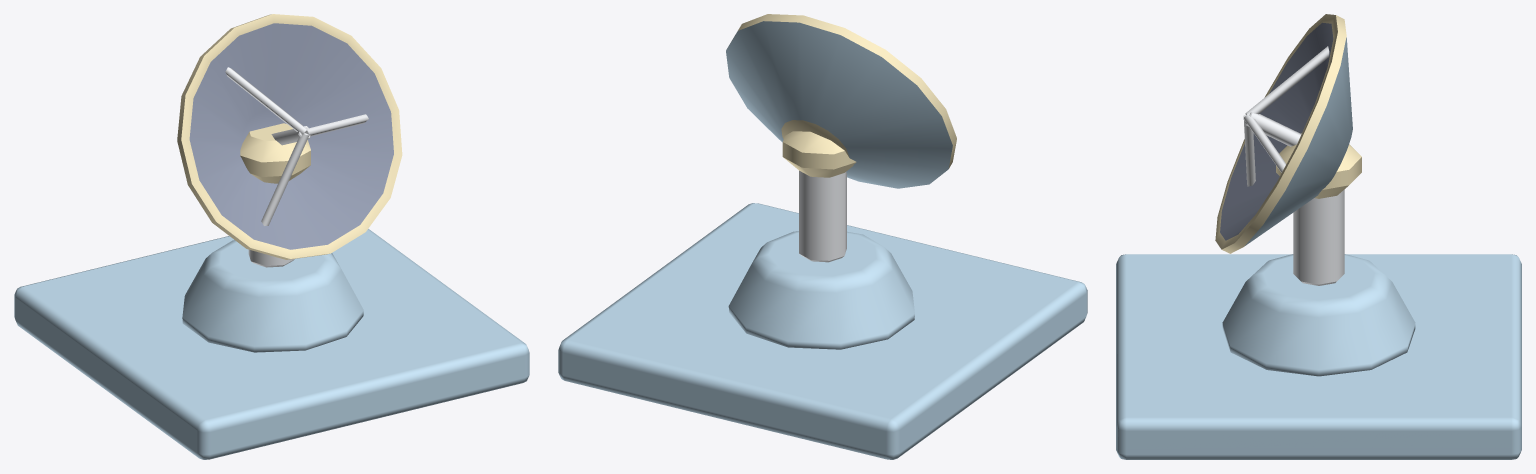
The model's file is R4X_Radar.fbx.
3 renders of one model, left to right at view 1: azimuth 30°, elevation 25°; view 2: azimuth 150°, elevation 25°; view 3: azimuth 270°, elevation 25°, orthographic. The views are drawn at different scales.
Visible parts, largest first — view 1: R4X_Radar_Body, R4X_Radar_Dish; view 2: R4X_Radar_Body, R4X_Radar_Dish; view 3: R4X_Radar_Body, R4X_Radar_Dish.
Part boxes in pixels (x1=…): R4X_Radar_Body: x1=14, y1=229, x2=529, y2=459; R4X_Radar_Dish: x1=177, y1=14, x2=402, y2=259; R4X_Radar_Body: x1=558, y1=170, x2=1087, y2=459; R4X_Radar_Dish: x1=726, y1=14, x2=956, y2=188; R4X_Radar_Body: x1=1116, y1=189, x2=1521, y2=459; R4X_Radar_Dish: x1=1215, y1=14, x2=1361, y2=253.
Size of the model in its own units: 0.52 by 0.4971 by 0.52.
